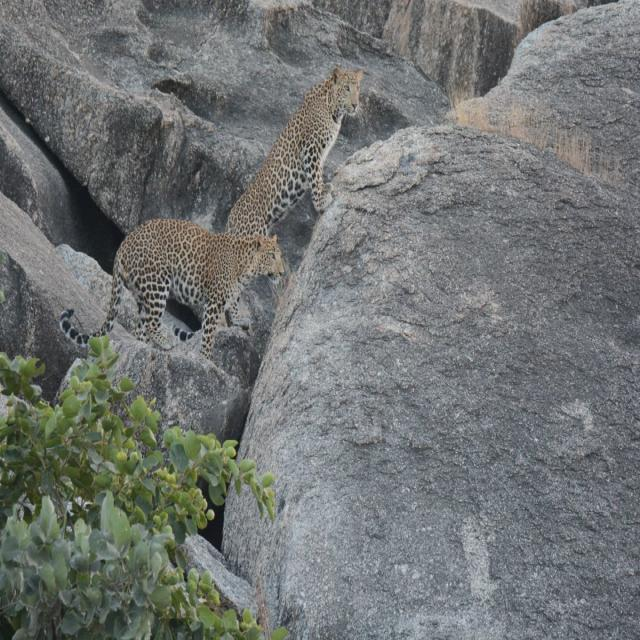Leopard: (59, 213, 285, 352), (227, 66, 364, 238)
